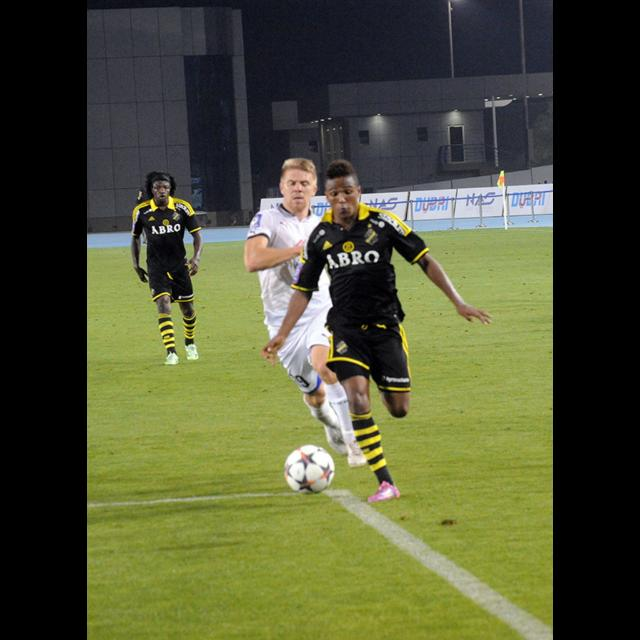Football: (280, 442, 340, 492)
